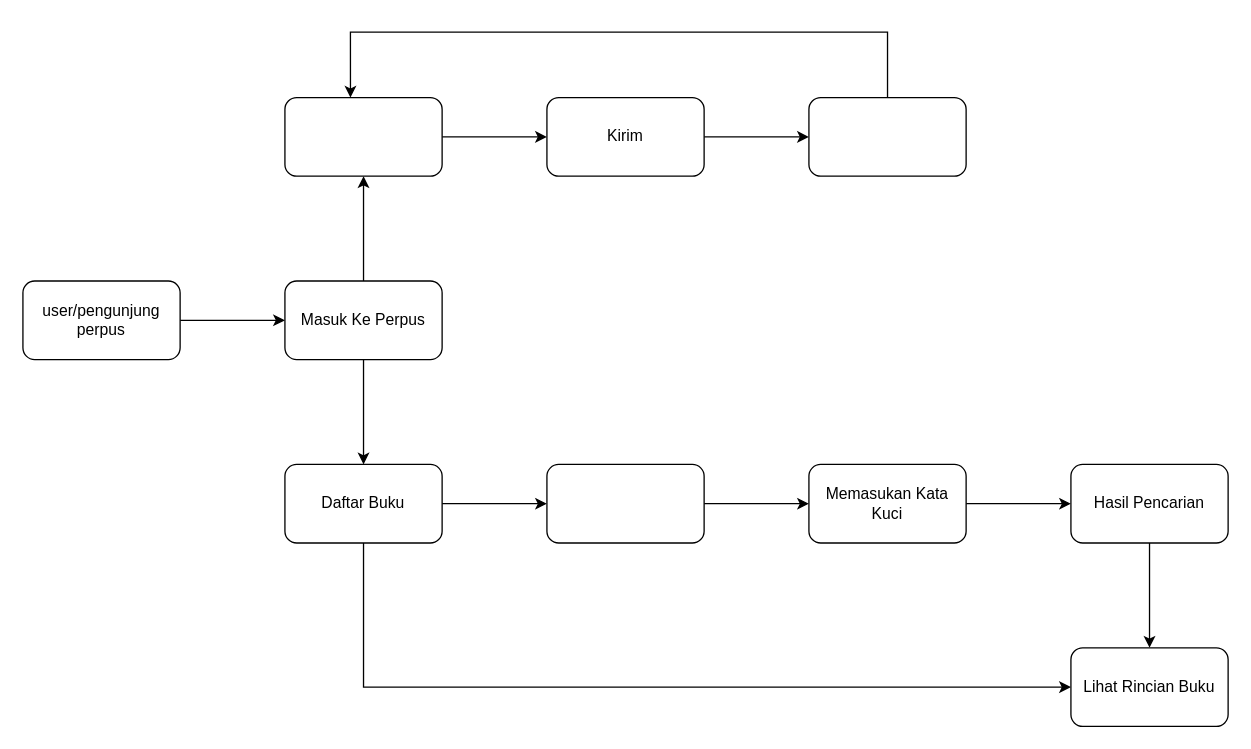
Some shapes in this 1251 by 749 pixel diagram are drawn without their labels. Each missing label, with the box of its shape:
Daftar Kunjungan: (808, 96, 966, 176)
Isi From Kunjungan: (284, 96, 442, 176)
Pencarian: (546, 463, 704, 543)
